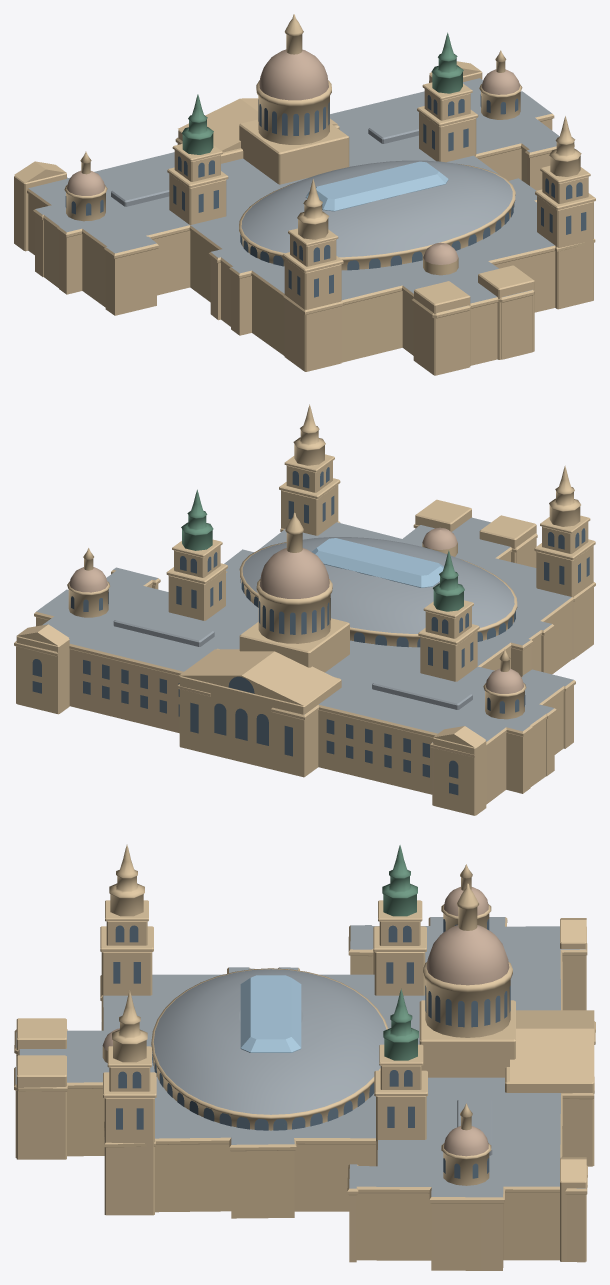
The model's file is barcelona-mnac.glb.
3 views of the same model, one above another, from view 1: azimuth 30°, elevation 25°; view 2: azimuth 150°, elevation 25°; view 3: azimuth 270°, elevation 25° (orthographic). The views are drawn at different scales.
Parts seen in each view (by area): view 1: Palau Nacional (MNAC); view 2: Palau Nacional (MNAC); view 3: Palau Nacional (MNAC).
Part boxes in pixels (x1,y1,x2,y2): Palau Nacional (MNAC): [14, 14, 595, 375]; Palau Nacional (MNAC): [14, 404, 595, 815]; Palau Nacional (MNAC): [14, 844, 595, 1270].
Bounding box in the file's own units: 169 × 69.2 × 148.
